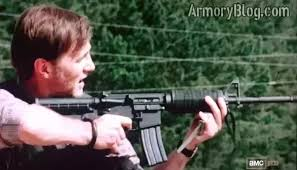Gun: (109, 87, 291, 136)
